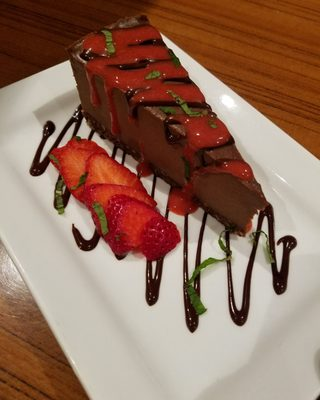curry: (2, 0, 319, 330)
